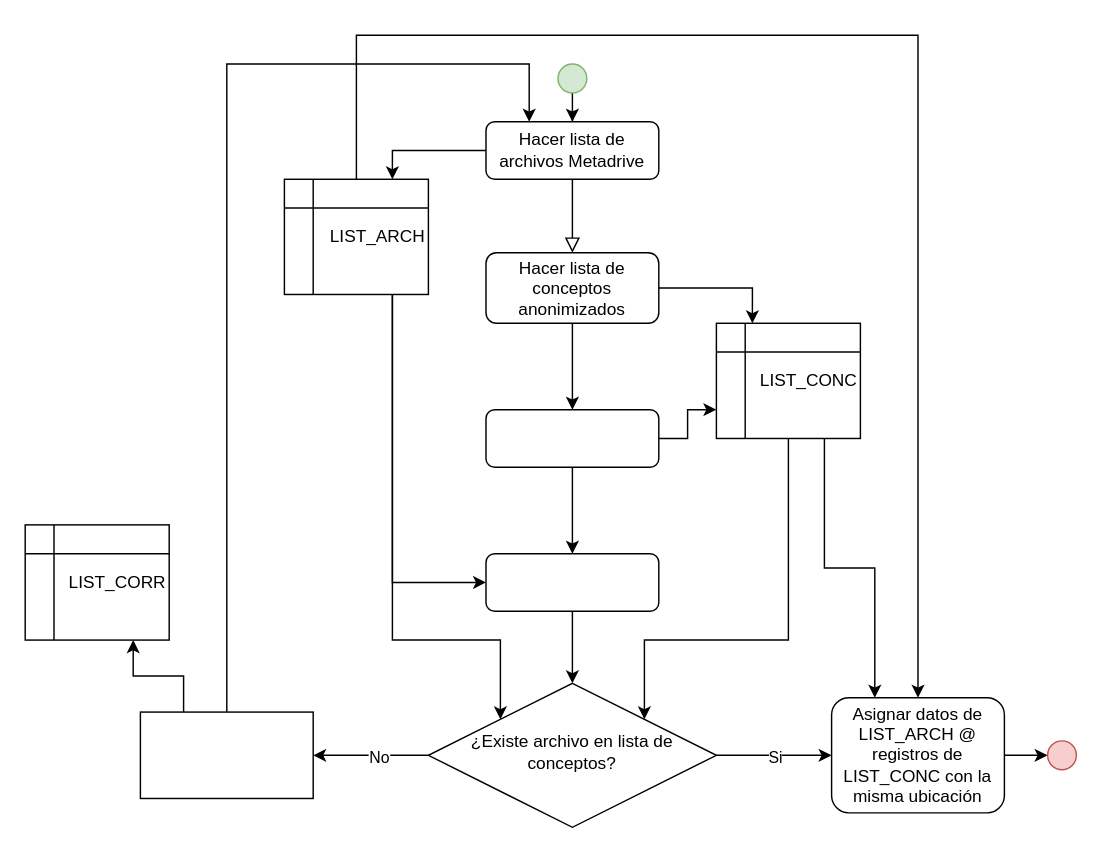
This 1102x852 diagram has some shape labels left out. Here are the shapes that lost their labels. From the top down, the centre of each, then its label:
[572,437]: Asignar nombre de archivo y ubicación a concepto
[572,581]: Recuperar ubicación del archivo
[226,754]: Agregar el registro de LIST_CONC a una lista de corrección de datos
